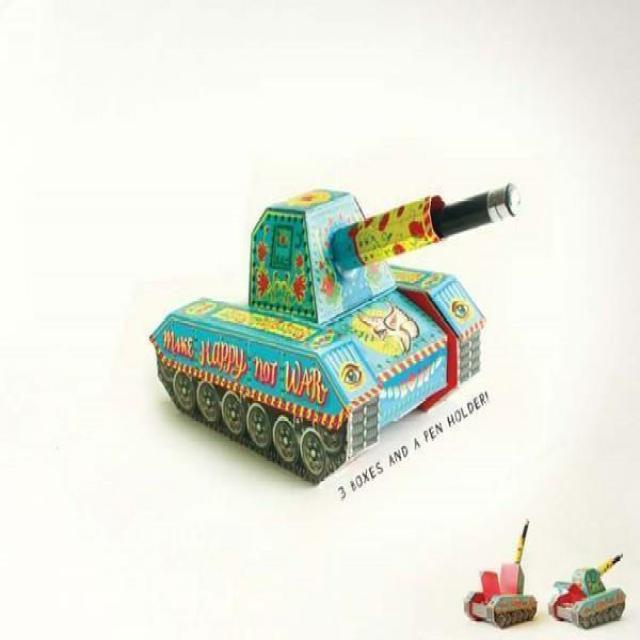MIL_MBT: (171, 170, 531, 478)
